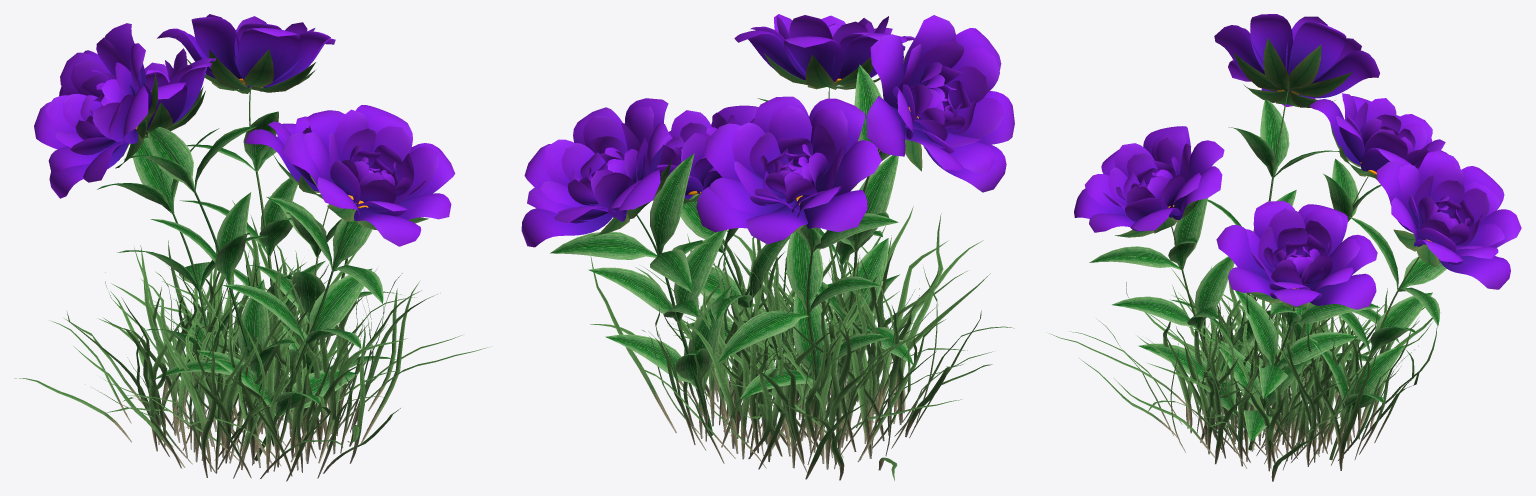
File: purple_flower.glb
The picture shows the model from 3 angles, left to right: view 1: azimuth 30°, elevation 25°; view 2: azimuth 150°, elevation 25°; view 3: azimuth 270°, elevation 25°; orthographic projection. The views are drawn at different scales.
Parts seen in each view (by area): view 1: purple flower; view 2: purple flower; view 3: purple flower.
Boxes of the visible parts, x1,y1,x2,y2 form: purple flower: [14, 14, 488, 481]; purple flower: [521, 14, 1014, 480]; purple flower: [1049, 14, 1521, 481].
Bounding box in the file's own units: 66.25 × 73.01 × 84.47.
5 materials, 5 textured.
